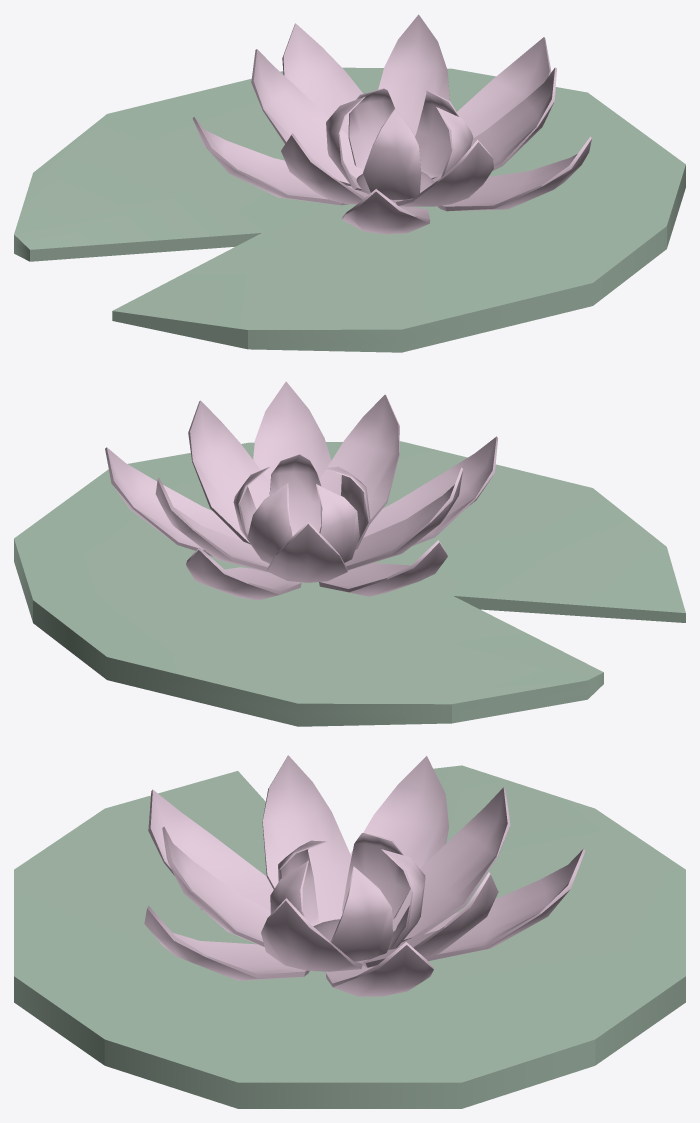
File: nenuphar.fbx
The picture shows the model from 3 angles, top to bottom: view 1: azimuth 30°, elevation 25°; view 2: azimuth 150°, elevation 25°; view 3: azimuth 270°, elevation 25°; orthographic projection. The views are drawn at different scales.
Parts seen in each view (by area): view 1: nenuphar, pCube109, pCube108, pCube102, pCube103, pCube117, pCube106, pCube104, pCube107, pCube111, pCube105, pCube115 (+4 smaller); view 2: nenuphar, pCube107, pCube111, pCube104, pCube105, pCube103, pCube110, pCube109, pCube106, pCube102, pCube114, pCube108 (+4 smaller); view 3: nenuphar, pCube110, pCube109, pCube106, pCube105, pCube102, pCube111, pCube104, pCube107, pCube115, pCube103, pCube112 (+4 smaller).
Part boxes in pixels (x1,y1,x2,y2): nenuphar: (14, 67, 685, 352); pCube109: (251, 49, 363, 186); pCube108: (378, 14, 449, 136); pCube102: (282, 23, 363, 135); pCube103: (457, 37, 551, 138); pCube117: (363, 108, 421, 200); pCube106: (192, 117, 352, 205); pCube104: (437, 136, 591, 211); pCube107: (432, 67, 556, 181); pCube111: (396, 139, 493, 206); pCube105: (342, 189, 430, 234); pCube115: (415, 90, 459, 178); nenuphar: (14, 441, 685, 726); pCube107: (188, 400, 270, 544); pCube111: (319, 394, 399, 532); pCube104: (253, 381, 331, 482); pCube105: (363, 436, 497, 545); pCube103: (105, 447, 242, 556); pCube110: (344, 467, 463, 570); pCube109: (267, 521, 347, 582); pCube106: (319, 540, 447, 596); pCube102: (186, 547, 301, 600); pCube114: (269, 454, 321, 536); pCube108: (155, 478, 269, 572); nenuphar: (14, 765, 685, 1108); pCube110: (262, 755, 351, 923); pCube109: (392, 787, 510, 941); pCube106: (350, 756, 448, 868); pCube105: (148, 789, 273, 910); pCube102: (424, 848, 585, 961); pCube111: (162, 826, 270, 947); pCube104: (144, 905, 309, 980); pCube107: (261, 898, 362, 971); pCube115: (331, 866, 392, 961); pCube103: (326, 942, 433, 996); pCube112: (342, 833, 410, 919).
Size of the model in its own units: 1.12 by 0.2463 by 1.
